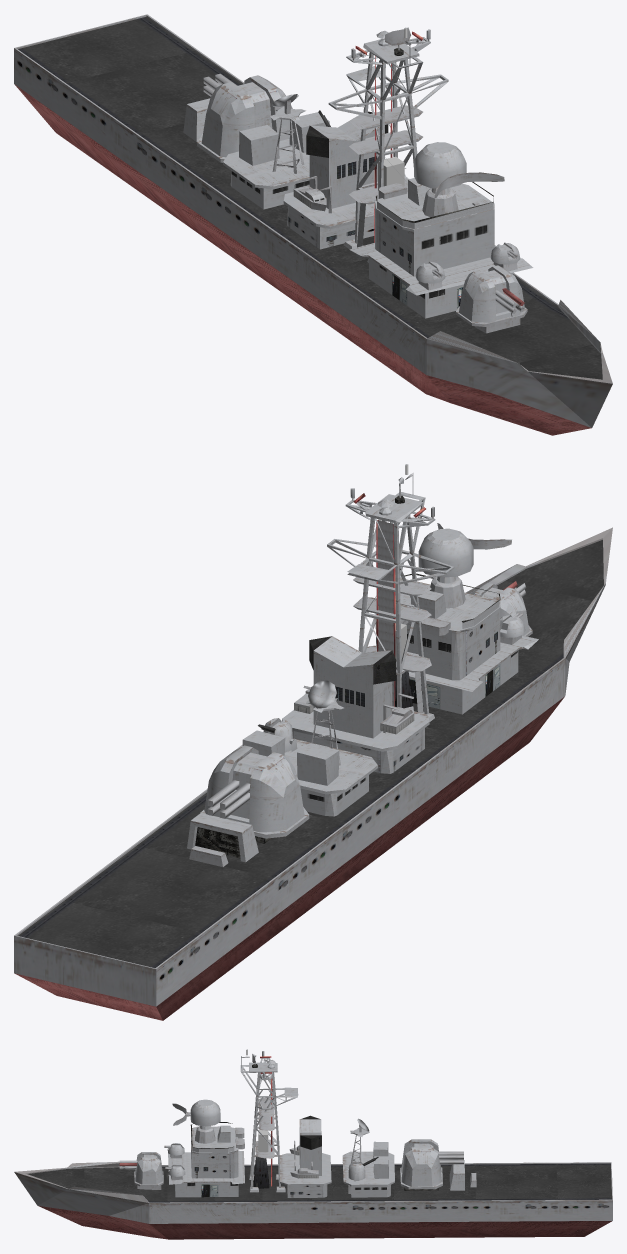
Rendered from qzj改方向gltf.gltf.
3 renders of one model, top to bottom at view 1: azimuth 30°, elevation 25°; view 2: azimuth 150°, elevation 25°; view 3: azimuth 270°, elevation 25°, orthographic. The views are drawn at different scales.
Parts seen in each view (by area): view 1: Box001; view 2: Box001; view 3: Box001.
Boxes of the visible parts, x1,y1,x2,y2 form: Box001: (14, 14, 612, 435); Box001: (14, 464, 612, 1020); Box001: (14, 1049, 612, 1239).
Bounding box in the file's own units: 111 × 221 × 684.
Materials: 74 (73 with a texture image).
